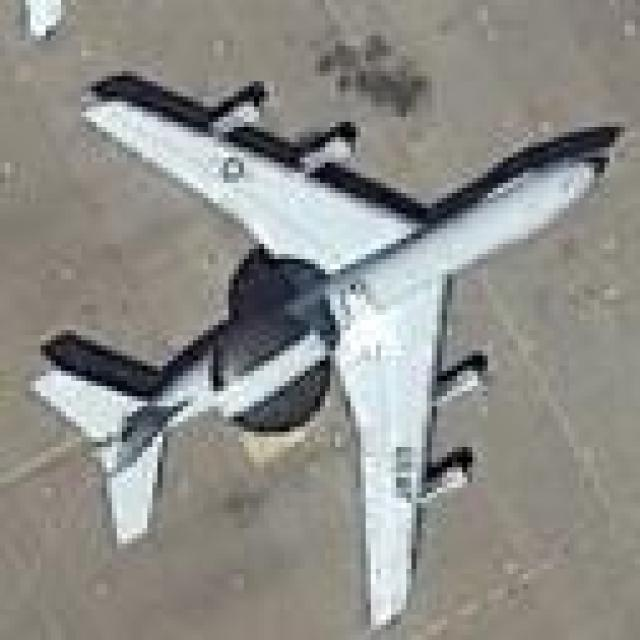E-3_TopDown: (25, 61, 625, 630)
